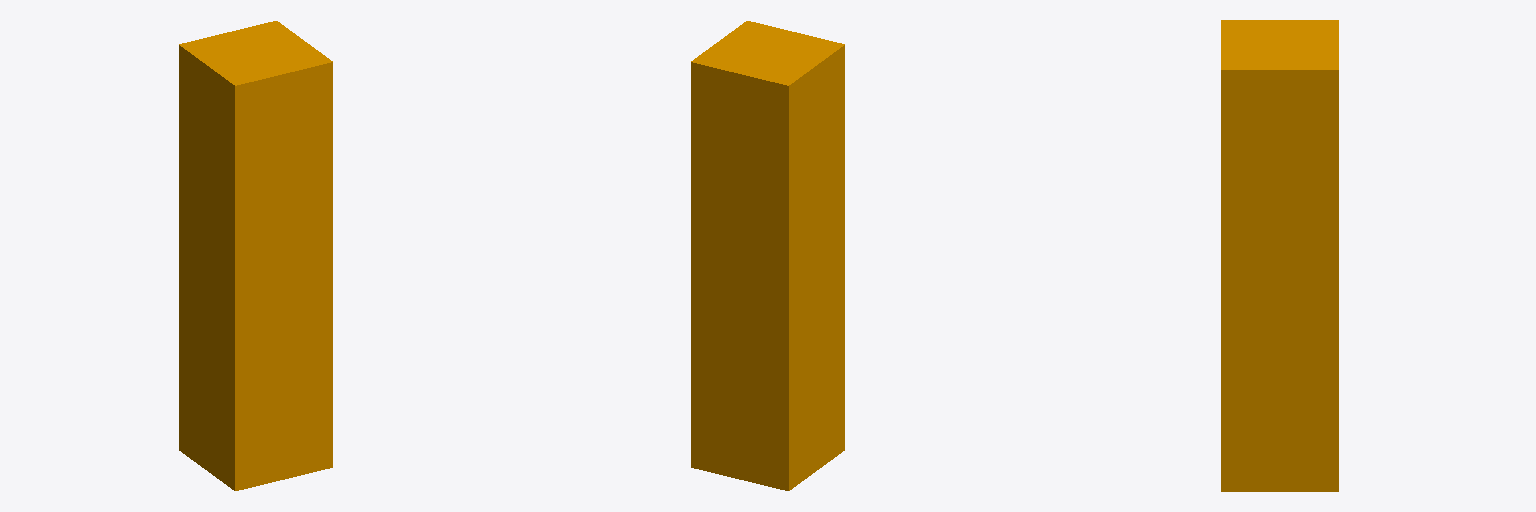
URDF robot description (block):
<robot name="block">
  <static>1</static>
  <link name="block">
    <inertial>
      <origin xyz="0.0 0.0 0.0" />
      <mass value="100" />
      <!-- (1/12)*mass*(h^2 + d^2)  (1/12)*mass*(w^2 + d^2) (1/12)*mass*(w^2 + h^2) -->
      <!-- (1/12)*0.5*(0.045^2 + 0.045^2)  (1/12)*0.5*(0.045^2 + 0.045^2) (1/12)*0.5*(0.045^2 + 0.045^2) -->
      <inertia  ixx="0.0" ixy="0.0"  ixz="0.0"  iyy="0.0"  iyz="0.0"  izz="0.0" />
      <geometry>
        <box size="0.09 0.09 0.355" />
      </geometry>
    </inertial>
    <visual>
      <origin xyz="0.0 0.0 0.0" />
      <geometry>
        <box size="0.09 0.09 0.355" />
      </geometry>
    </visual>
    <collision>
      <origin xyz="0.0 0.0 0.0" />
      <geometry>
        <box size="0.09 0.09 0.355" />
        <surface>
          <friction>
            <ode>
              <mu>0.75</mu>
              <mu2>0.75</mu2>
            </ode>
          </friction>
          <contact>
            <ode>
              <kp>1000000.0</kp>
              <kd>1</kd>
              <min_depth>0.000005</min_depth>
              <max_vel>1.0</max_vel>
            </ode>
          </contact>
        </surface>
      </geometry>
    </collision>
  </link>
  <gazebo reference="block">
    <dynamics damping=".7" friction="100.0"/>
    <material>Gazebo/Red</material>
  </gazebo>
</robot>

--- Render facts (derived) ---
Views: 3 orthographic renders of the robot side by side, from view 1: azimuth 30°, elevation 25°; view 2: azimuth 150°, elevation 25°; view 3: azimuth 270°, elevation 25°.
Model block with 1 links and 0 joints (none), rooted at block, posed every joint at zero.
Links seen in each view (by area): view 1: block; view 2: block; view 3: block.
Boxes of the visible links, left/top/right/bottom form: block: left=179, top=21, right=332, bottom=490; block: left=691, top=21, right=844, bottom=490; block: left=1221, top=20, right=1338, bottom=491.
Bounding box of the posed robot: 0.09 × 0.09 × 0.355 m (x, y, z).
Geometry: primitives only (box / cylinder / sphere), no mesh files.